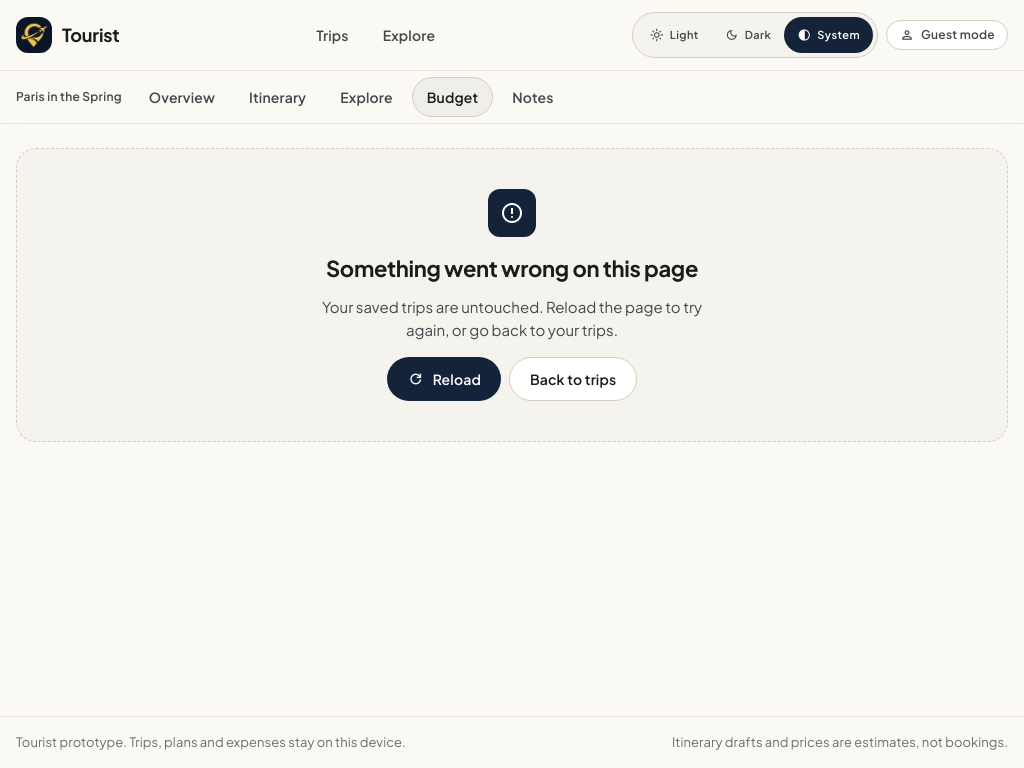
Test case: App when a page fails to render › shows a calm fallback inside the shell instead of a blank page, and recovers on navigation
The image size is (1024, 768).
Check: the heading "Something went wrong on this page" is shown, box [326, 253, 698, 283]
Check: the text "Your saved trips are untouched" is shown, box [322, 297, 702, 339]
// The shell is still there, and leaving the broken page clears the fallback.
Click the link "Notes" at (533, 97), box [512, 88, 554, 106]
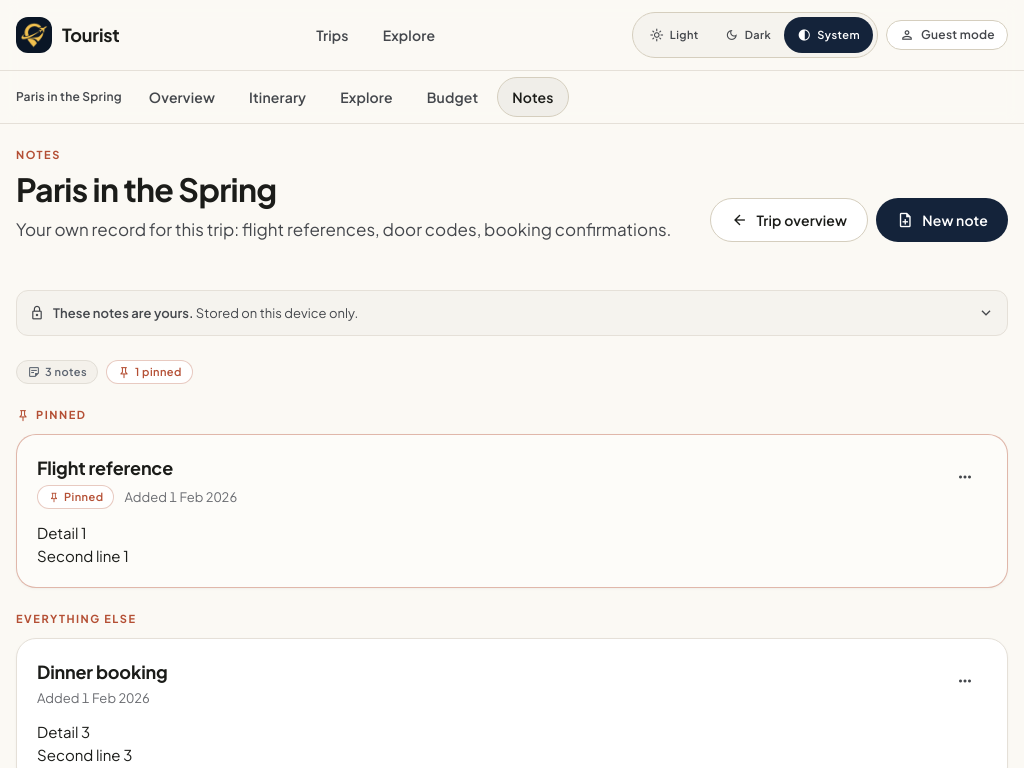
Check: the heading "Something went wrong on this page" is gone
Check: the text "Your own record for this trip" is shown, box [16, 218, 671, 240]
